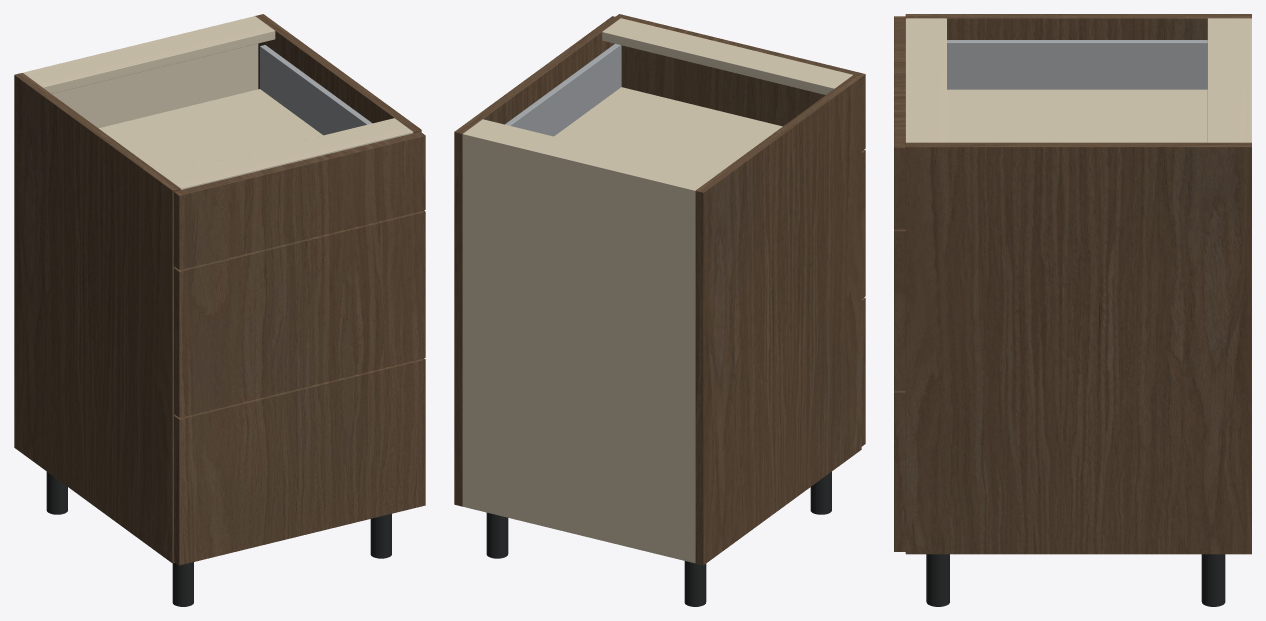
The model's file is oppein-ply-mso-3db21.glb.
3 views of the same model, side by side, from view 1: azimuth 30°, elevation 25°; view 2: azimuth 150°, elevation 25°; view 3: azimuth 270°, elevation 25° (orthographic). The views are drawn at different scales.
Visible parts, largest first — view 1: Cabinet side, Drawer front, Drawer front.001, Drawer front.002, Drawer floor.002, Cabinet back, Top support rail, Top support rail.001, Drawer side.005, Cabinet side.001, Adjustable foot.001, Adjustable foot.003 (+1 smaller); view 2: Cabinet back, Cabinet side, Drawer floor.002, Drawer front.002, Cabinet side.001, Top support rail.001, Drawer side.005, Top support rail, Adjustable foot, Adjustable foot.002, Adjustable foot.001, Drawer front (+1 smaller); view 3: Cabinet side.001, Drawer floor.002, Drawer side.004, Cabinet side, Top support rail.001, Top support rail, Drawer front.002, Drawer front, Drawer front.001, Adjustable foot.002, Adjustable foot.003, Cabinet back.
Part boxes in pixels (left/top/right/bottom): Cabinet side: left=14, top=73, right=180, bottom=563; Drawer front: left=174, top=358, right=425, bottom=565; Drawer front.001: left=174, top=210, right=425, bottom=417; Drawer front.002: left=174, top=131, right=425, bottom=269; Drawer floor.002: left=99, top=89, right=322, bottom=174; Cabinet back: left=23, top=16, right=258, bottom=128; Top support rail: left=24, top=18, right=275, bottom=93; Top support rail.001: left=162, top=118, right=413, bottom=189; Drawer side.005: left=260, top=45, right=372, bottom=135; Cabinet side.001: left=255, top=14, right=421, bottom=133; Adjustable foot.001: left=172, top=562, right=193, bottom=606; Adjustable foot.003: left=370, top=514, right=391, bottom=558; Cabinet back: left=462, top=132, right=697, bottom=563; Cabinet side: left=695, top=75, right=861, bottom=565; Drawer floor.002: left=554, top=87, right=782, bottom=175; Drawer front.002: left=615, top=14, right=865, bottom=150; Cabinet side.001: left=454, top=16, right=620, bottom=506; Top support rail.001: left=602, top=18, right=852, bottom=94; Drawer side.005: left=505, top=43, right=621, bottom=136; Top support rail: left=466, top=119, right=714, bottom=188; Adjustable foot: left=684, top=561, right=706, bottom=606; Adjustable foot.002: left=486, top=512, right=508, bottom=558; Adjustable foot.001: left=810, top=471, right=831, bottom=514; Drawer front: left=861, top=297, right=865, bottom=446; Cabinet side.001: left=905, top=142, right=1251, bottom=554; Drawer floor.002: left=947, top=89, right=1207, bottom=142; Drawer side.004: left=947, top=40, right=1207, bottom=89; Cabinet side: left=905, top=14, right=1251, bottom=39; Top support rail.001: left=905, top=18, right=946, bottom=142; Top support rail: left=1207, top=18, right=1245, bottom=142; Drawer front.002: left=894, top=16, right=905, bottom=229; Drawer front: left=894, top=390, right=905, bottom=551; Drawer front.001: left=894, top=229, right=905, bottom=390; Adjustable foot.002: left=1201, top=554, right=1225, bottom=606; Adjustable foot.003: left=926, top=554, right=949, bottom=606; Cabinet back: left=1245, top=18, right=1251, bottom=142.
Bounding box in the file's own units: 0.5334 × 0.8763 × 0.6064.
Materials: 4 (1 with a texture image).
